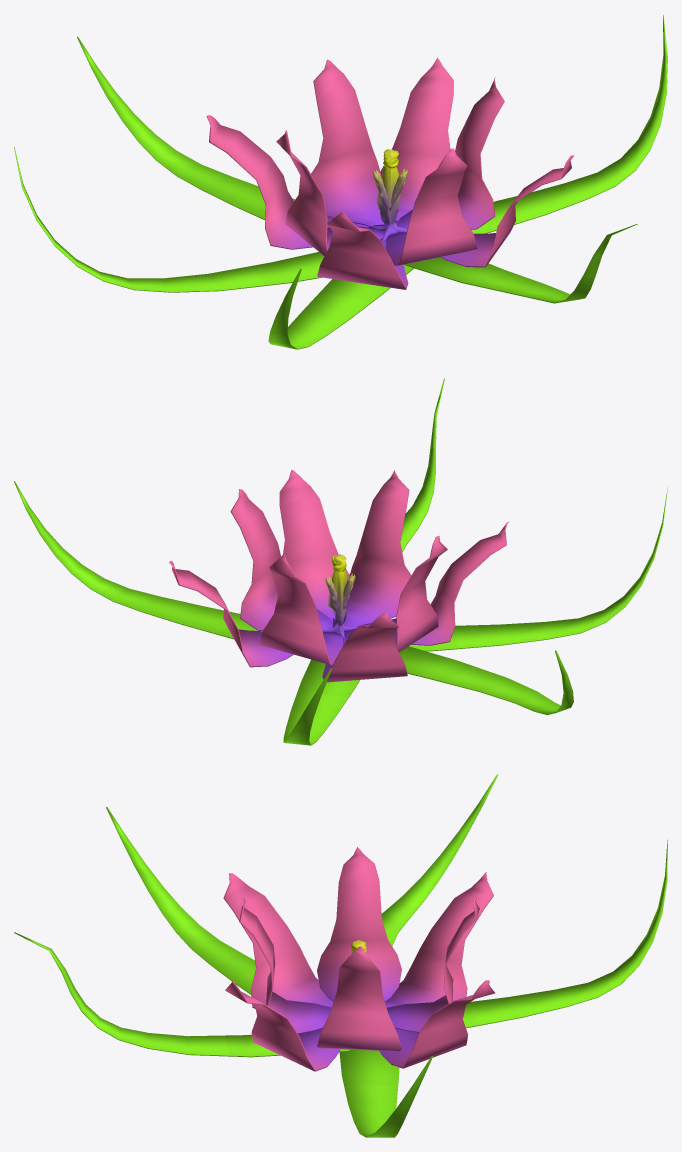
The model's file is SM_Purp_03.fbx.
3 views of the same model, one above another, from view 1: azimuth 30°, elevation 25°; view 2: azimuth 150°, elevation 25°; view 3: azimuth 270°, elevation 25° (orthographic). The views are drawn at different scales.
Visible parts, largest first — view 1: Plane.005; view 2: Plane.005; view 3: Plane.005.
Boxes of the visible parts, x1,y1,x2,y2 form: Plane.005: (14,14,667,349); Plane.005: (14,378,667,745); Plane.005: (14,774,667,1137).
Bounding box in the file's own units: 9.42 × 2.1 × 9.
